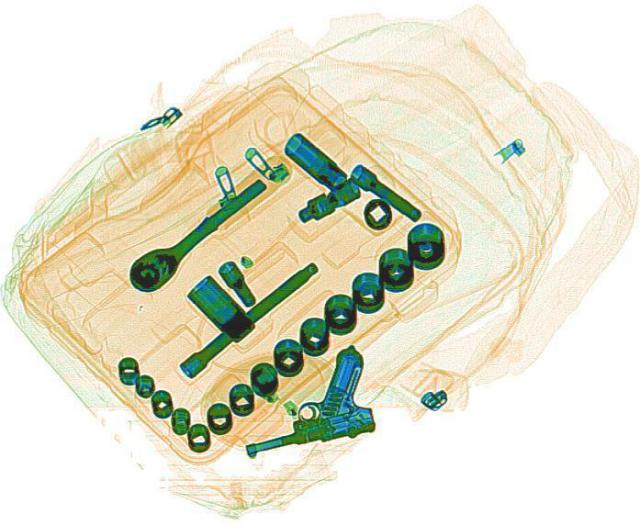Gun: (214, 341, 388, 457)
